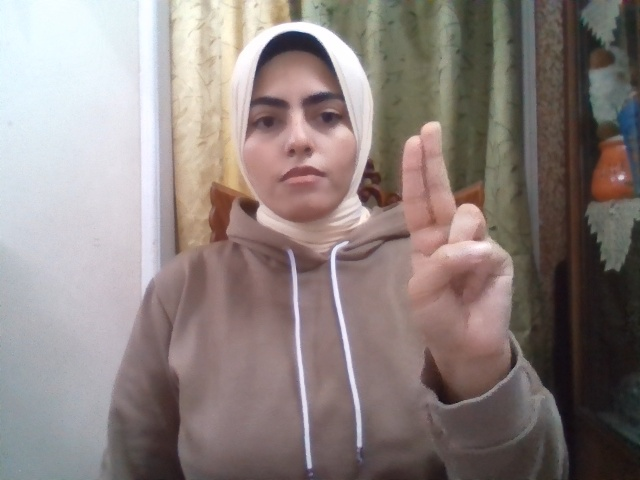U: (401, 122, 514, 363)
